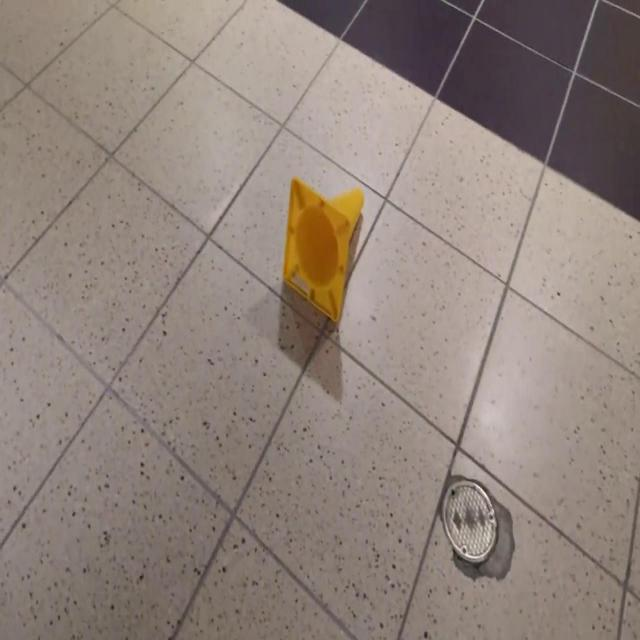frc_cone: (282, 175, 366, 325)
